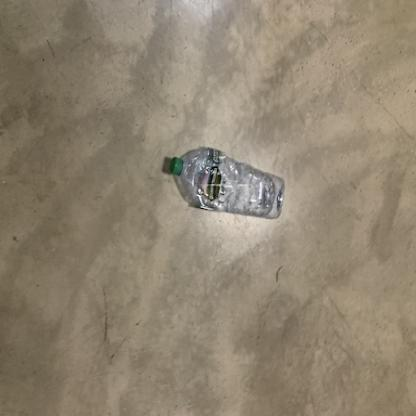trash: (169, 147, 287, 221)
